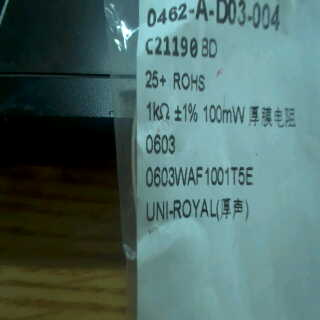1kR: (142, 98, 175, 123)
